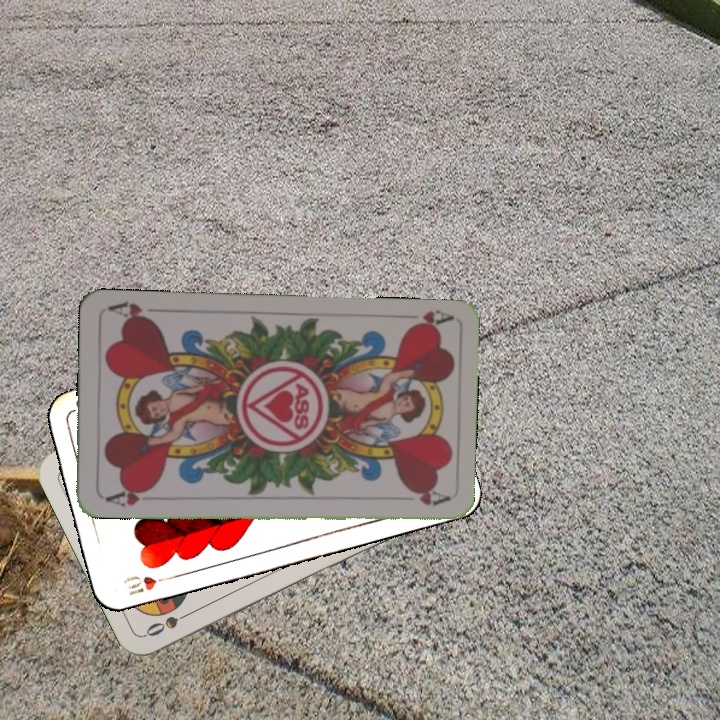H10: (119, 571, 177, 599)
HA: (394, 306, 453, 333), (102, 483, 157, 510)
SO: (141, 606, 197, 639)
